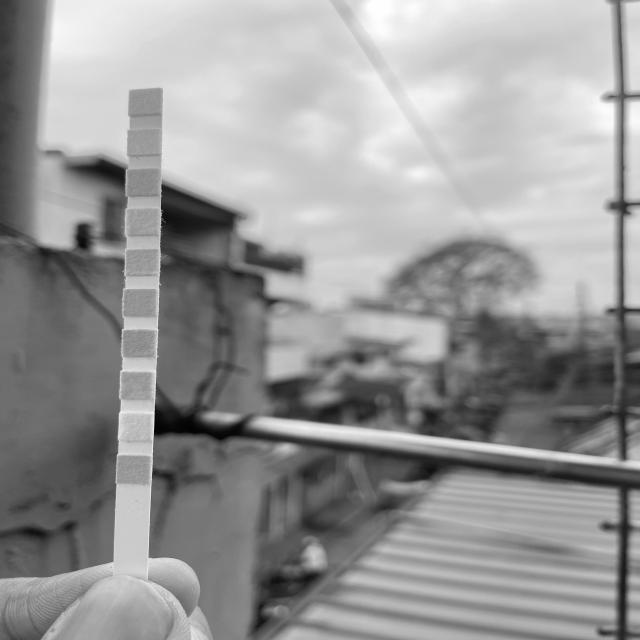Bilirubin: (120, 414, 152, 439)
Blood: (124, 290, 158, 315)
Glucose: (118, 456, 150, 482)
Ketone: (122, 371, 154, 397)
Leukocytes: (131, 92, 160, 113)
Nitrite: (129, 130, 160, 154)
Protein: (127, 210, 159, 233)
SpGravity: (124, 331, 156, 354)
Urobilinogen: (128, 170, 159, 193)
background: (0, 0, 640, 640)
pH: (127, 250, 158, 274)
strip: (113, 88, 162, 574)
